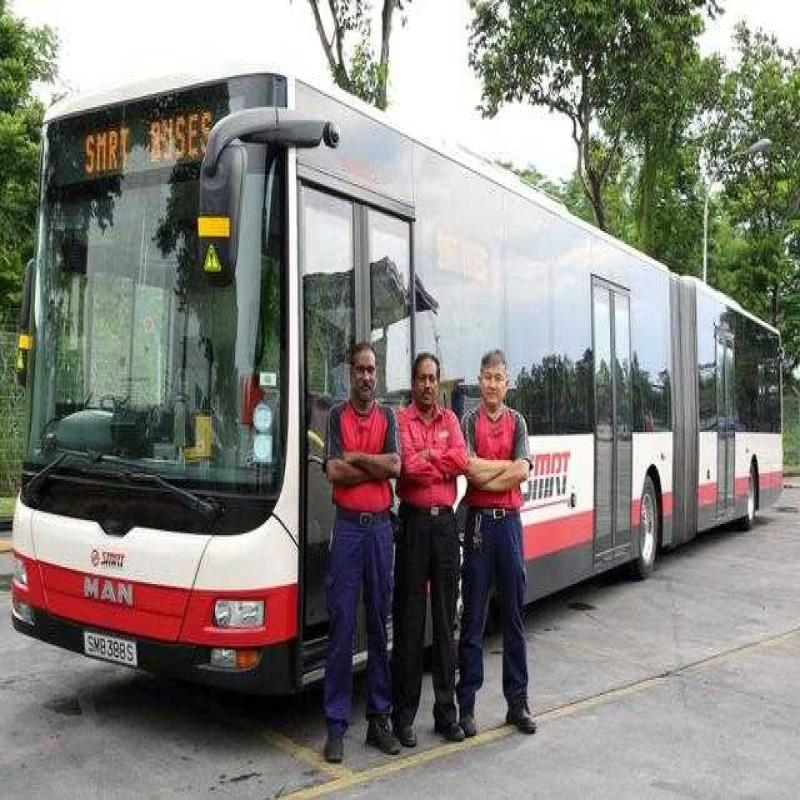bus: (38, 72, 778, 656)
